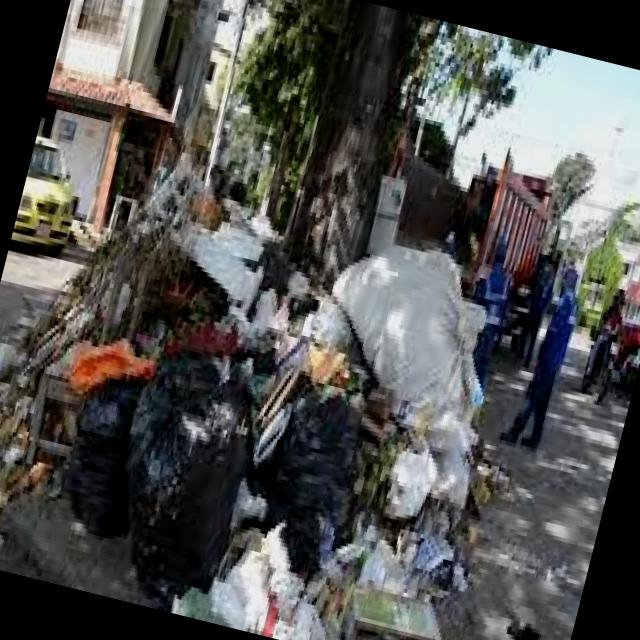garbage: (0, 153, 543, 640)
